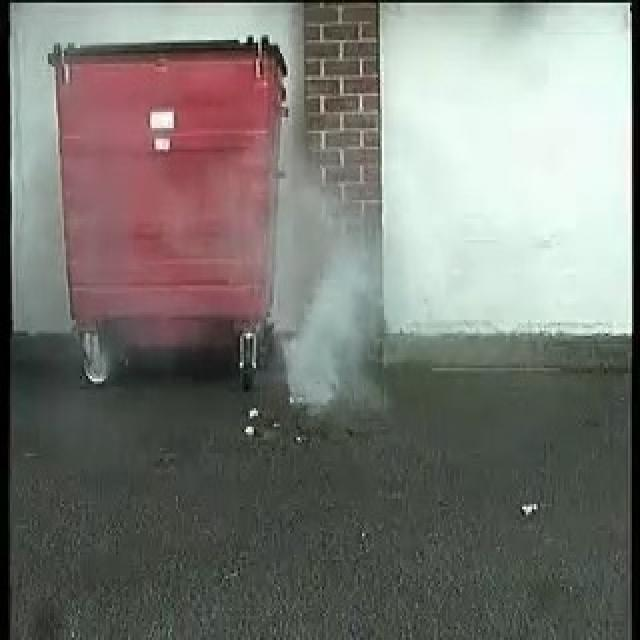smoke: (272, 159, 394, 406)
